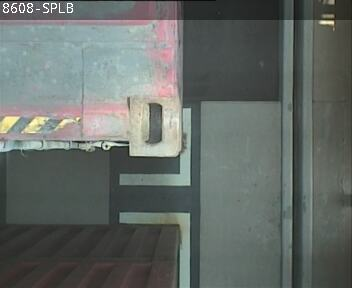groundmarker_1: (118, 106, 192, 288)
